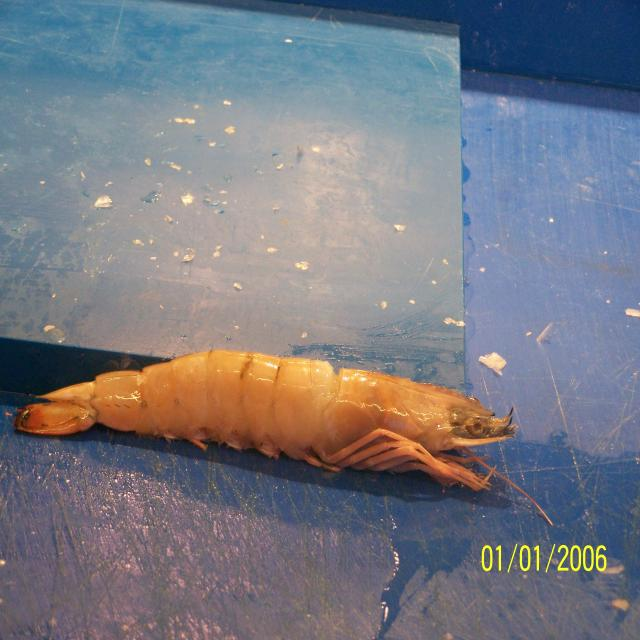Shrimp-karides-: (12, 350, 518, 493)
